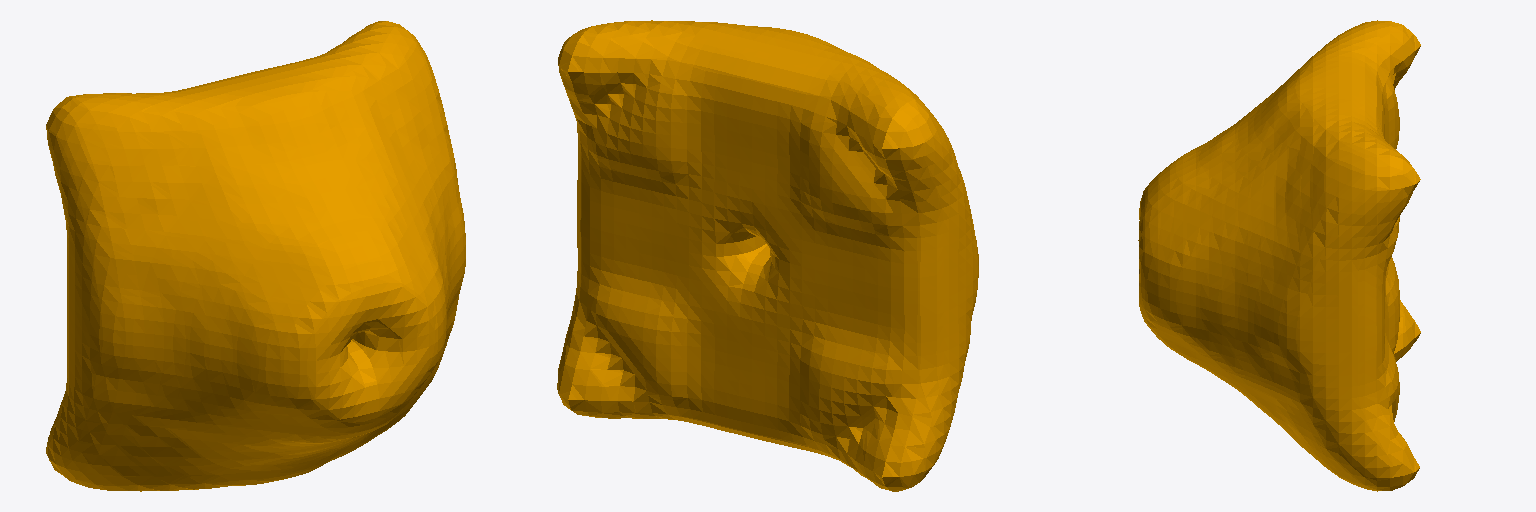
URDF robot description (object):
<?xml version="1.0"?>
        <robot name="object">
          <link name="object">
            <visual>
              <origin xyz="0.0 0.0 0.0"/>
              <geometry>
                <mesh filename="G1.stl" scale="1.00 1.00 1.00"/>
              </geometry>
            </visual>
            <collision>
              <origin xyz="0.0 0.0 0.0"/>
              <geometry>
                <mesh filename="G1.stl" scale="1.00 1.00 1.00"/>
              </geometry>
            </collision>
          </link>
        </robot>

--- Facts derived from the render (not from the file) ---
The picture shows the robot from 3 angles, left to right: view 1: azimuth 30°, elevation 25°; view 2: azimuth 150°, elevation 25°; view 3: azimuth 270°, elevation 25°; orthographic projection.
Model object with 1 links and 0 joints (none), rooted at object, posed all joints at 0.
Visible links, largest first — view 1: object; view 2: object; view 3: object.
Link boxes in pixels (x1,y1,x2,y2): object: (46, 21, 465, 491); object: (557, 20, 978, 491); object: (1138, 20, 1420, 491).
Bounding box of the posed robot: 0.1 × 0.0748 × 0.0999 m (x, y, z).
1 mesh visuals loaded from 1 distinct referenced files (1 binary STL).